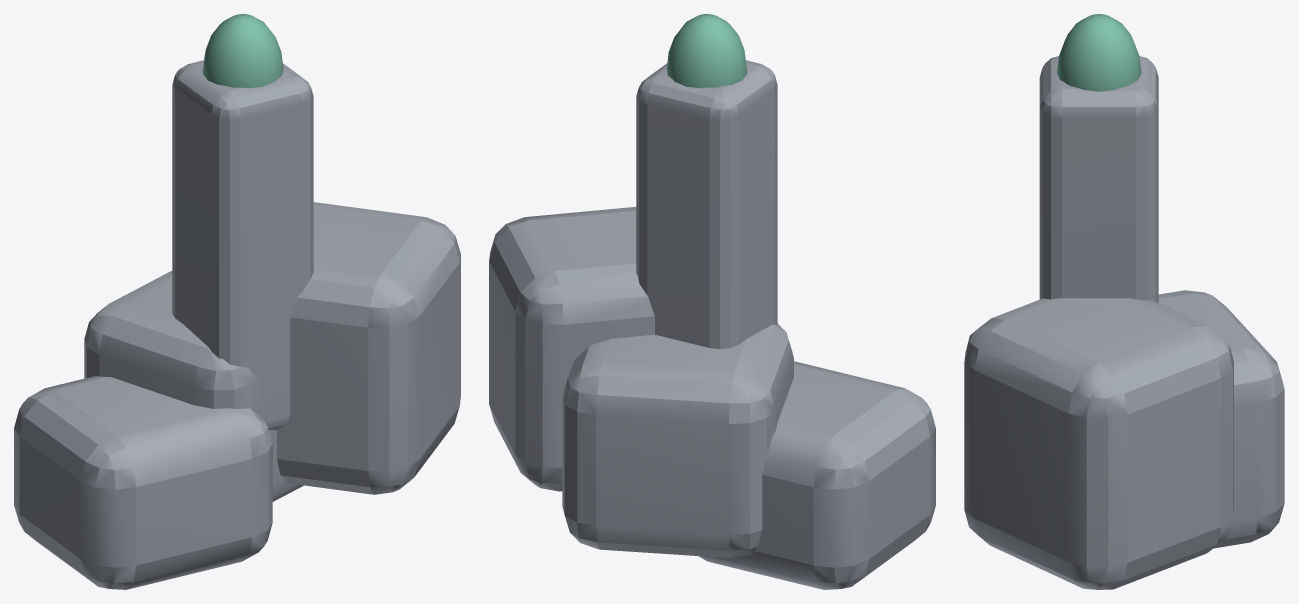
Rendered from region_3.glb.
3 renders of one model, left to right at view 1: azimuth 30°, elevation 25°; view 2: azimuth 150°, elevation 25°; view 3: azimuth 270°, elevation 25°, orthographic. The views are drawn at different scales.
Visible parts, largest first — view 1: Surface_RegionStone3, Surface_MintLens; view 2: Surface_RegionStone3, Surface_MintLens; view 3: Surface_RegionStone3, Surface_MintLens.
Part boxes in pixels (bbox=[...]): Surface_RegionStone3: bbox=[14, 60, 460, 589]; Surface_MintLens: bbox=[202, 14, 283, 88]; Surface_RegionStone3: bbox=[489, 60, 935, 589]; Surface_MintLens: bbox=[666, 14, 747, 88]; Surface_RegionStone3: bbox=[964, 56, 1284, 589]; Surface_MintLens: bbox=[1057, 14, 1141, 91].
Size of the model in its own units: 1.95 by 2.35 by 1.29.
